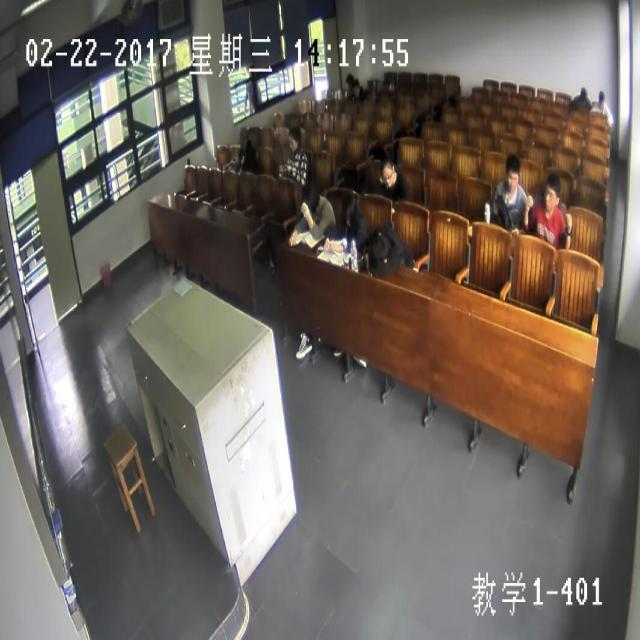person: (368, 229, 392, 268), (340, 190, 358, 226), (542, 175, 560, 210), (504, 154, 521, 190), (380, 155, 397, 189), (301, 182, 319, 212), (288, 128, 300, 150), (577, 84, 589, 104), (238, 126, 248, 148), (596, 87, 604, 112), (351, 80, 361, 97), (344, 72, 353, 88)
